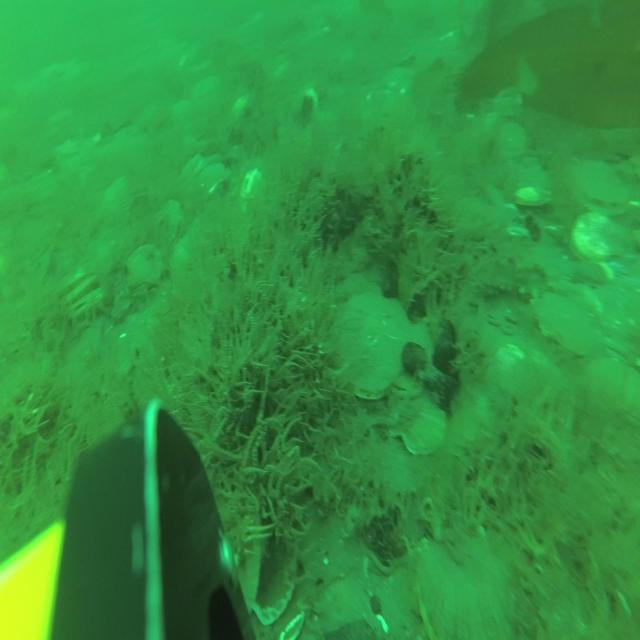holothurian: (470, 255, 548, 303)
scallop: (415, 530, 521, 640), (334, 284, 416, 404), (532, 290, 598, 360), (385, 319, 432, 406), (586, 352, 639, 418), (389, 396, 446, 456), (598, 273, 640, 350), (576, 155, 622, 212), (572, 212, 620, 262), (509, 158, 548, 205), (127, 245, 164, 292), (453, 193, 486, 244), (68, 287, 104, 330), (157, 194, 185, 247), (499, 120, 529, 157), (64, 274, 98, 306), (497, 90, 526, 125), (58, 266, 86, 298)
